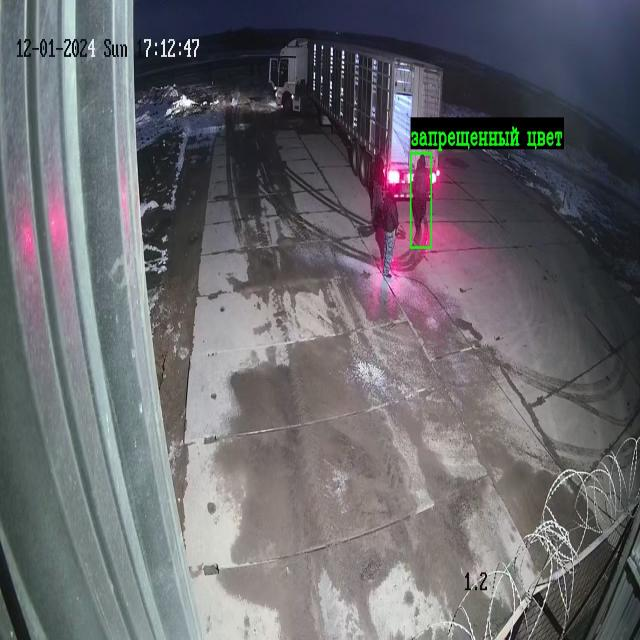Person: (378, 193, 398, 277), (412, 156, 430, 244)
